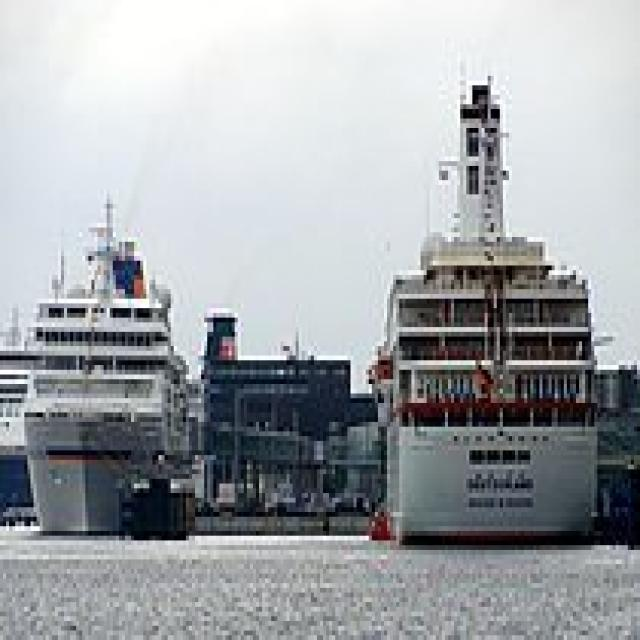Cruise: (359, 47, 606, 550), (18, 185, 186, 536)
